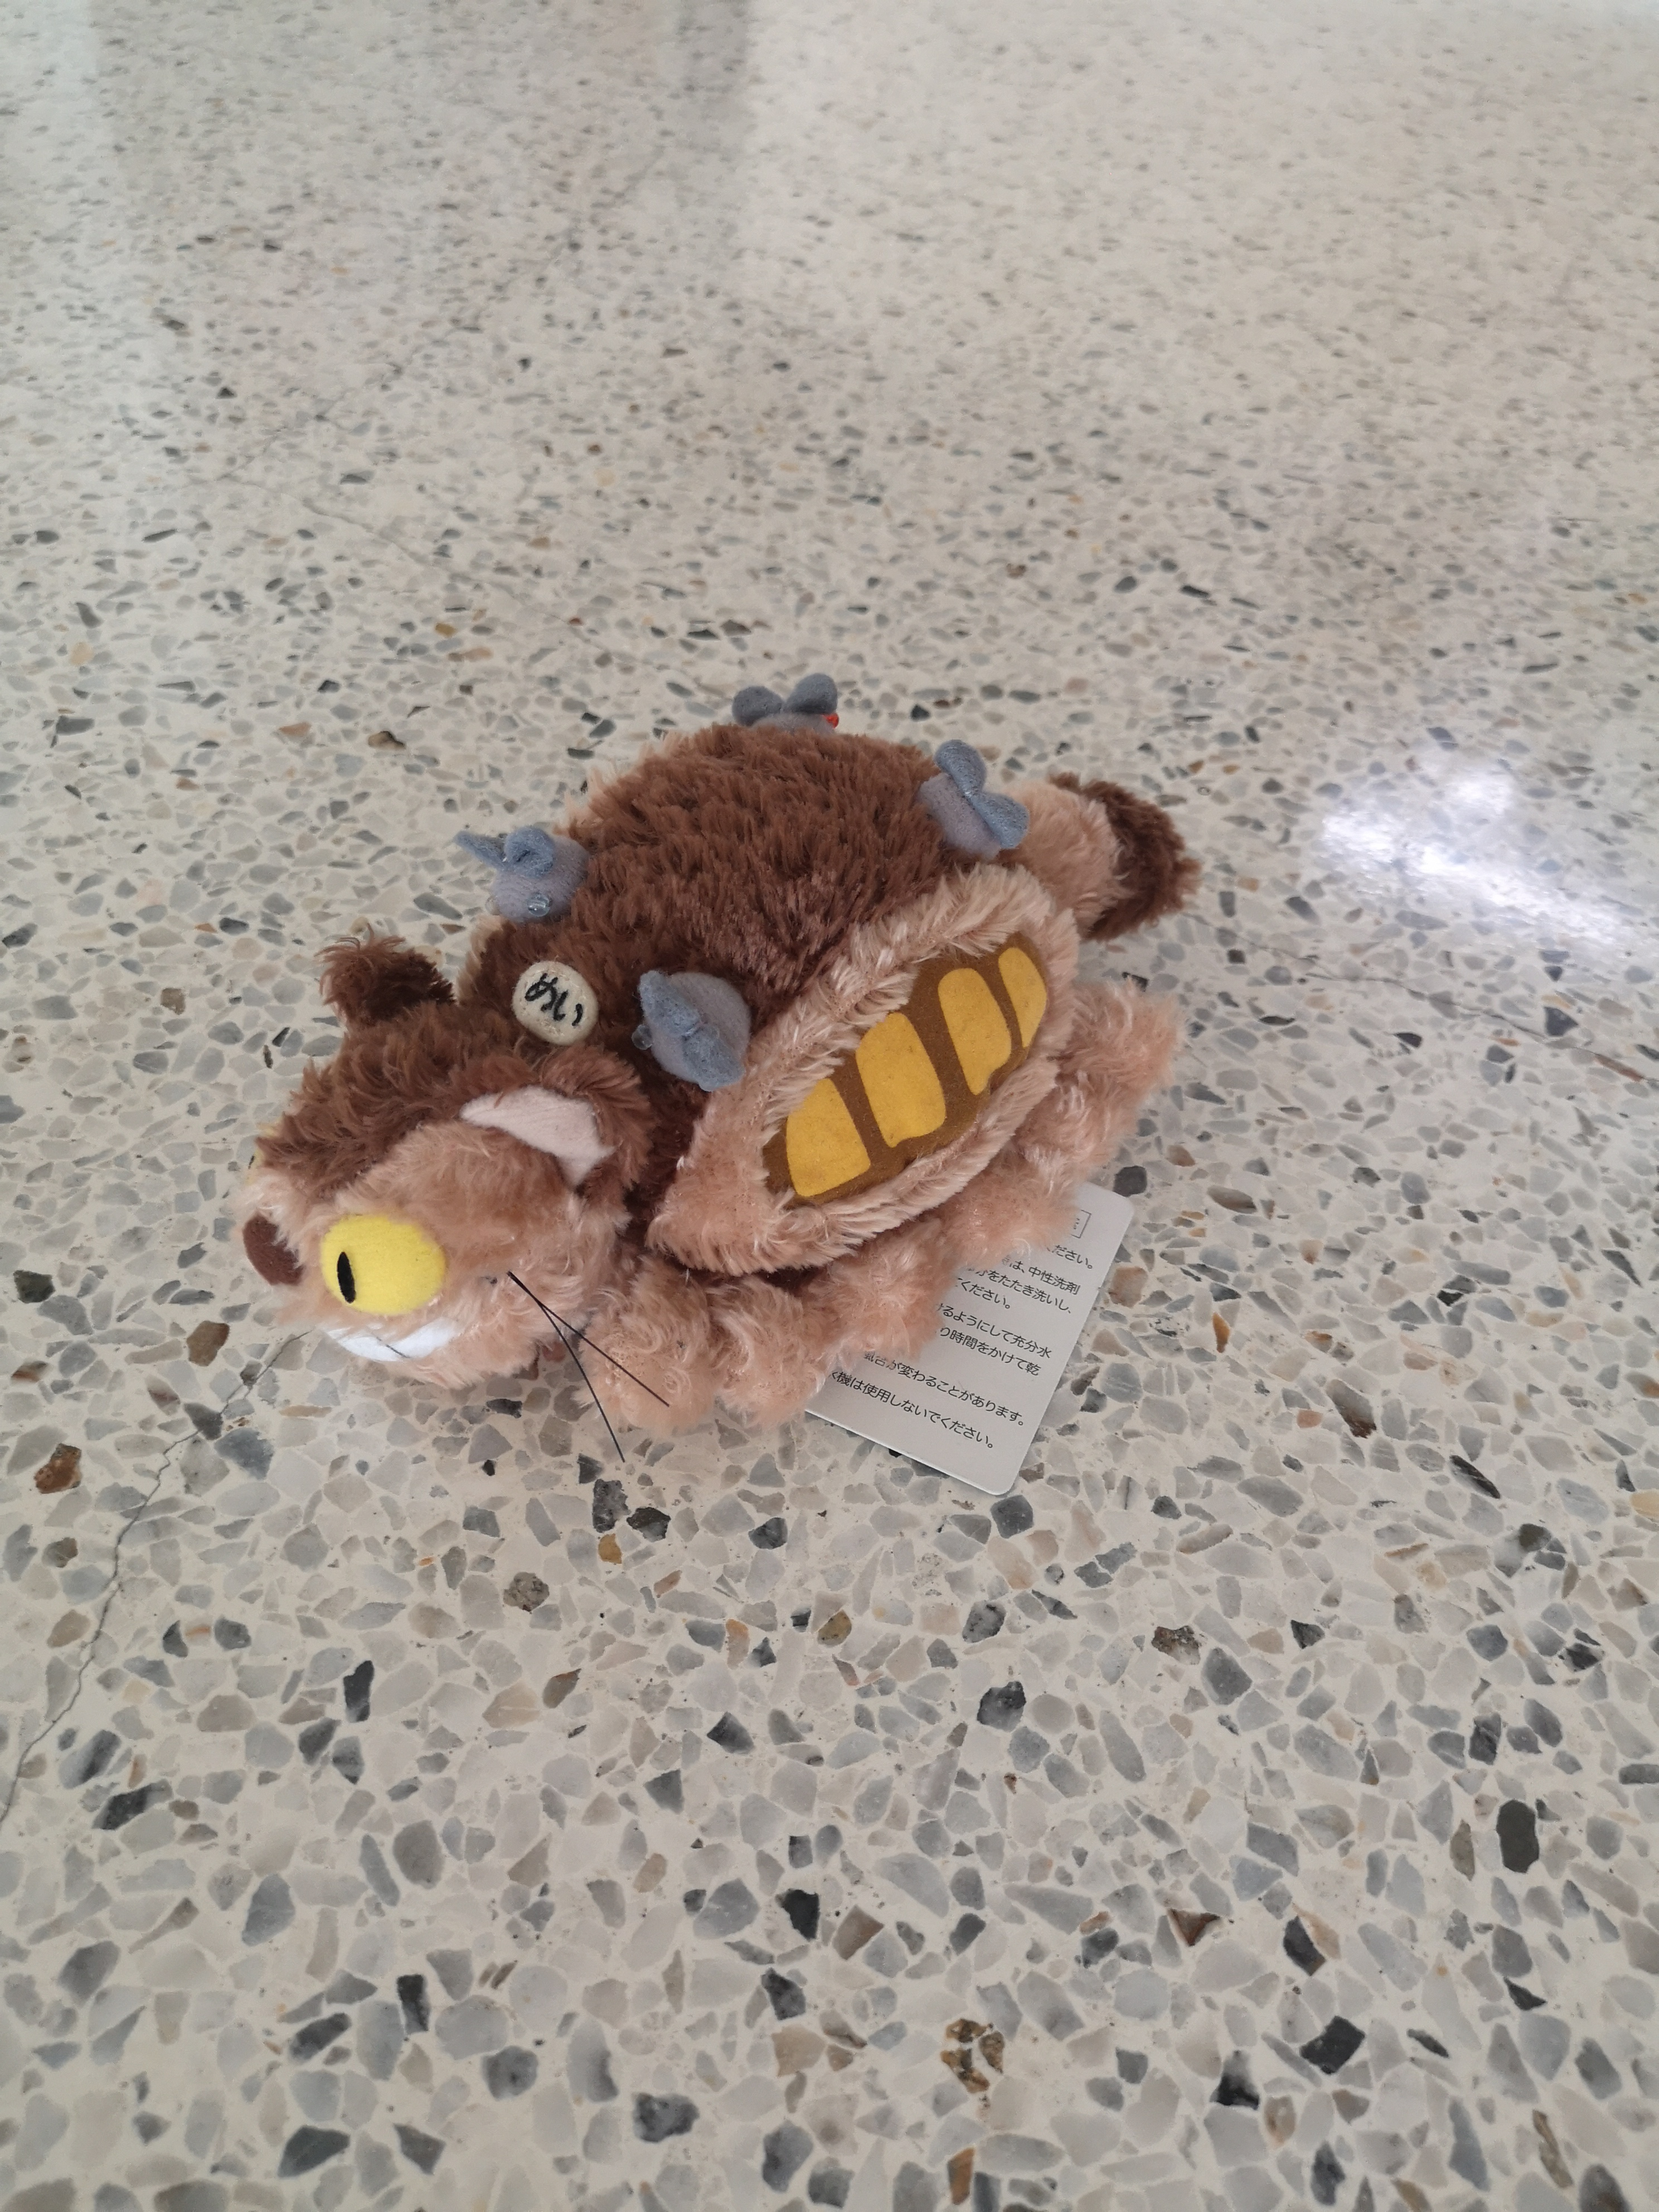nekobus: (235, 653, 1206, 1521)
